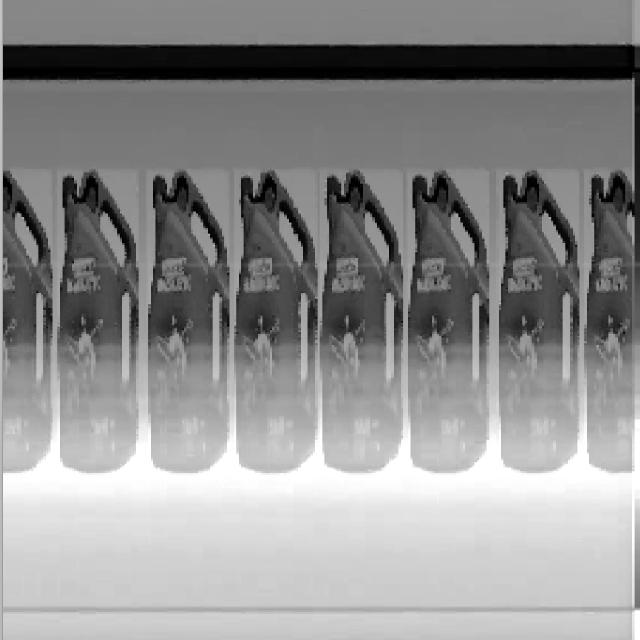motor_oil: (496, 170, 580, 476), (58, 171, 140, 484), (148, 172, 231, 481), (409, 165, 491, 476), (238, 168, 319, 466), (324, 168, 402, 474)
